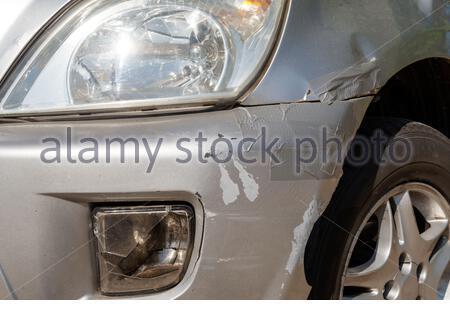fender-dent: (269, 0, 449, 102)
front-bumper-dent: (0, 103, 339, 298)
